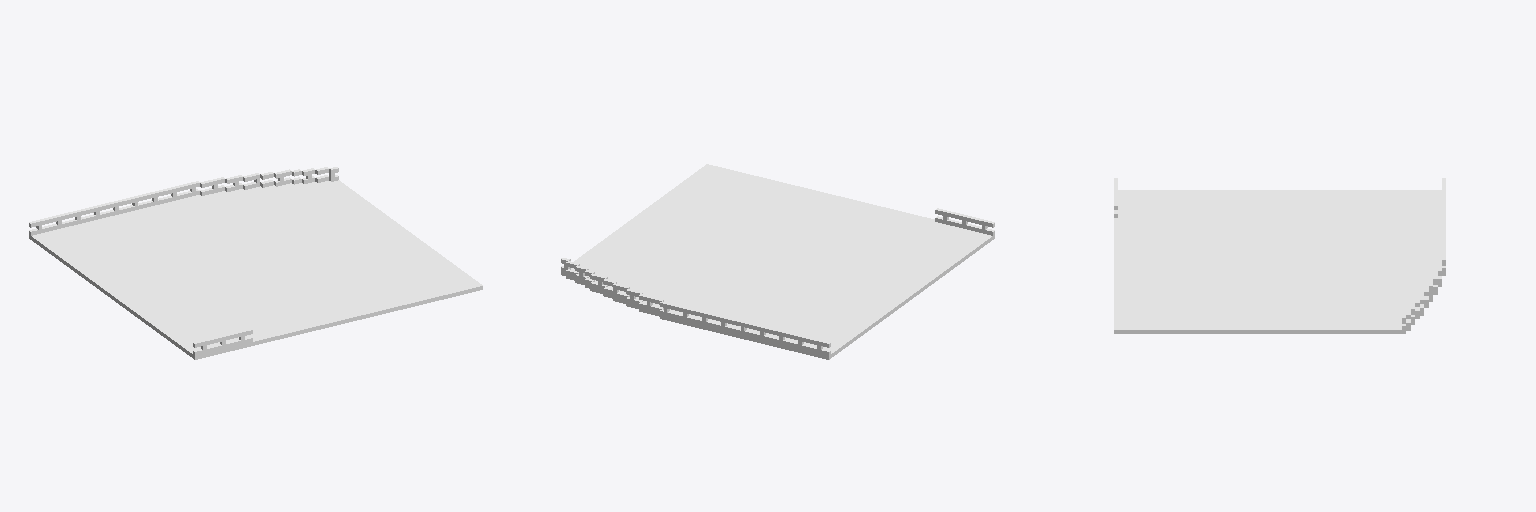
File: 90_Large-0.obj
3 renders of one model, left to right at view 1: azimuth 30°, elevation 25°; view 2: azimuth 150°, elevation 25°; view 3: azimuth 270°, elevation 25°, orthographic.
Visible parts, largest first — view 1: 90_Large-0; view 2: 90_Large-0; view 3: 90_Large-0.
Part boxes in pixels (bbox=[...]): 90_Large-0: bbox=[29, 167, 482, 359]; 90_Large-0: bbox=[561, 164, 994, 359]; 90_Large-0: bbox=[1114, 178, 1445, 333].
Size of the model in its own units: 75 by 4 by 75.